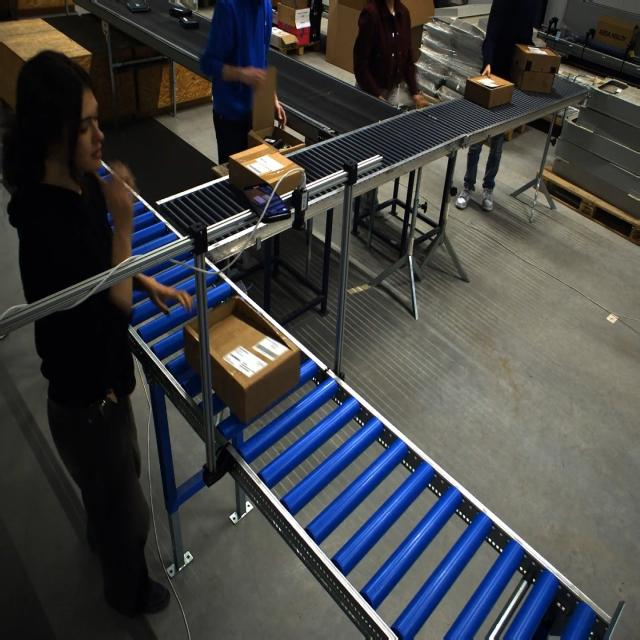box: (184, 294, 300, 421), (244, 65, 304, 158), (228, 143, 302, 198), (510, 43, 562, 94), (464, 74, 515, 111)
product: (126, 0, 151, 13), (168, 5, 191, 18), (178, 17, 199, 29)
